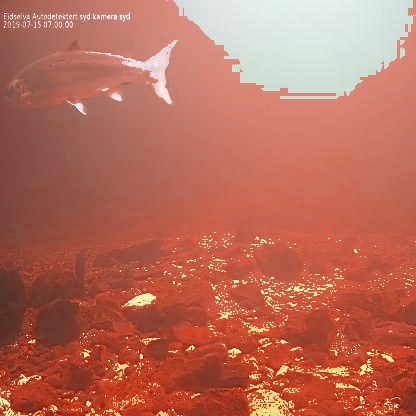salmon: (3, 36, 181, 119)
